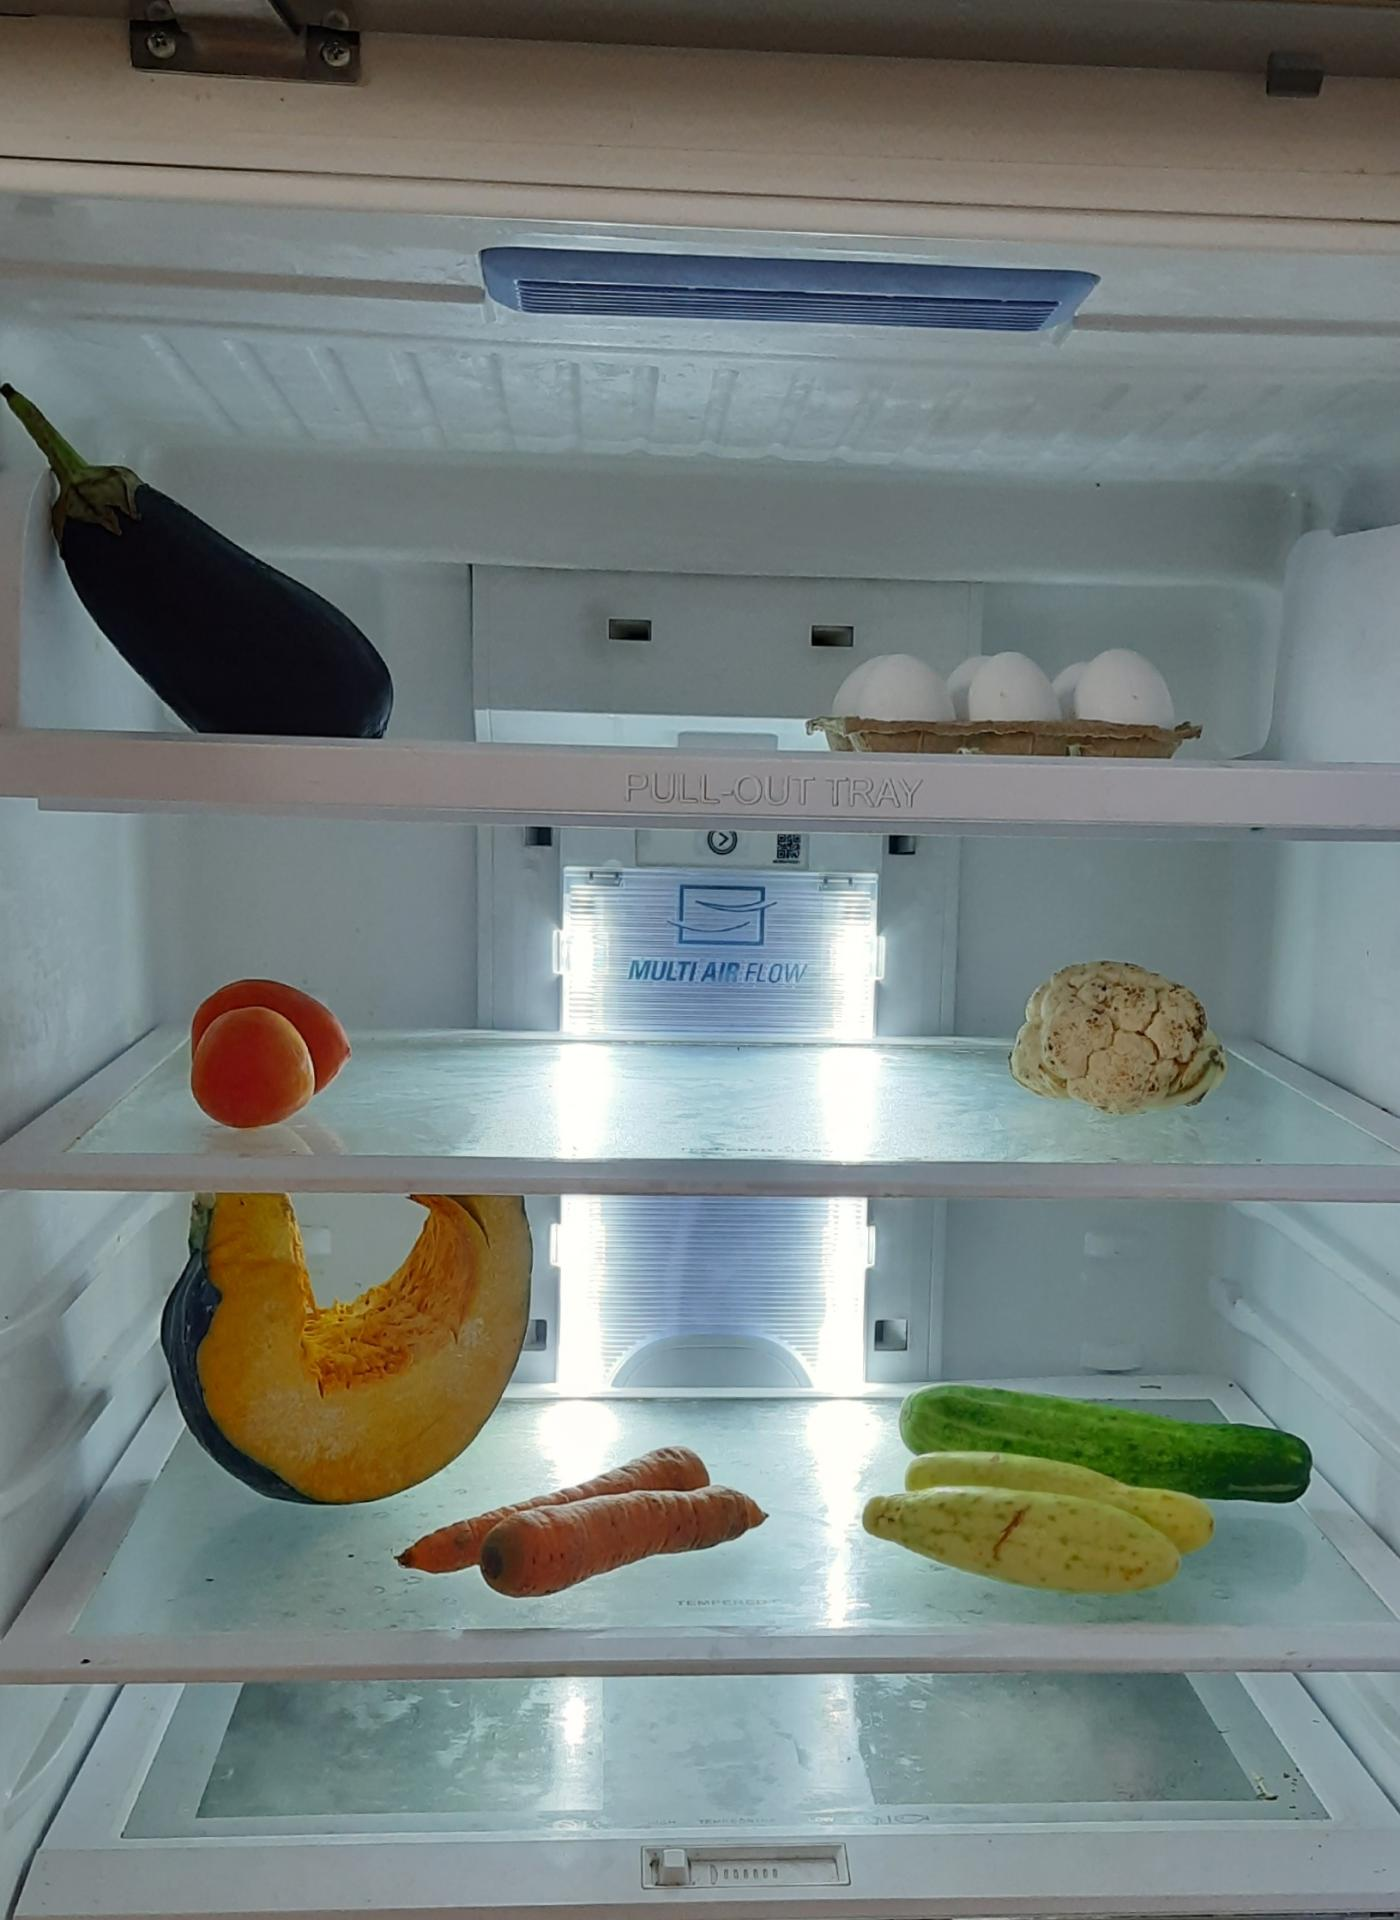brinjal: (4, 385, 417, 739)
carrots: (409, 1453, 771, 1619)
cauliflower: (1011, 959, 1227, 1117)
cucumber: (872, 1403, 1220, 1600), (902, 1391, 1322, 1504)
egg: (826, 638, 1182, 733)
pumpkin: (158, 1197, 540, 1506)
tomato: (189, 979, 358, 1133)
